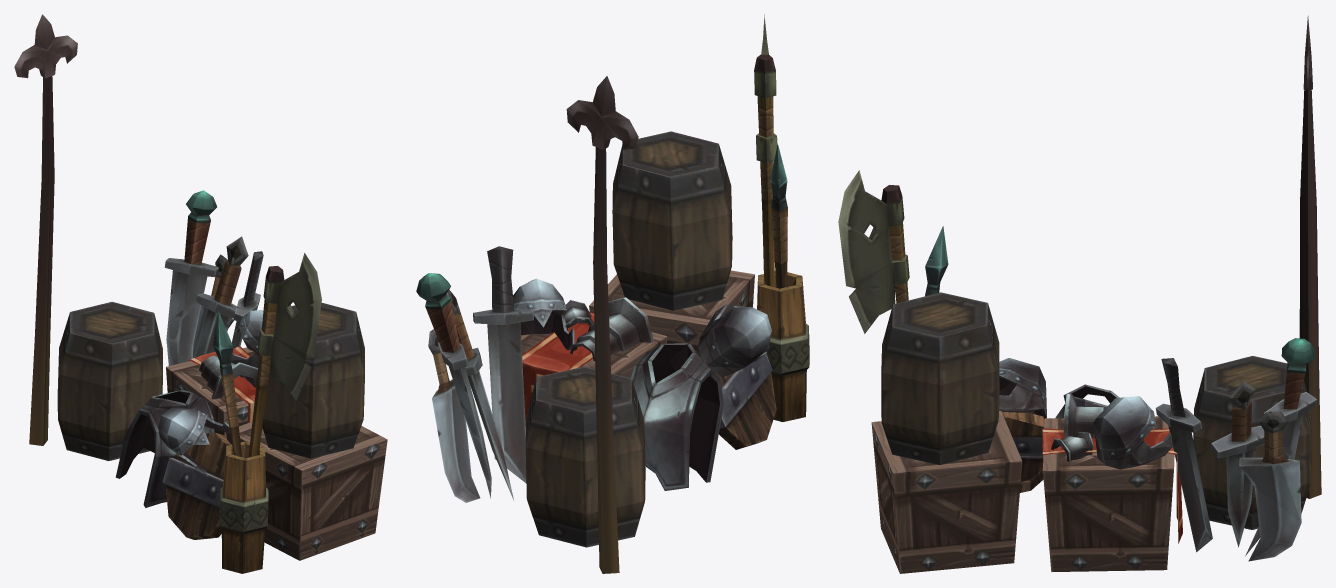
Rendered from zawu.FBX.
The picture shows the model from 3 angles, left to right: view 1: azimuth 30°, elevation 25°; view 2: azimuth 150°, elevation 25°; view 3: azimuth 270°, elevation 25°; orthographic projection. The views are drawn at different scales.
Parts seen in each view (by area): view 1: 对象003; view 2: 对象003; view 3: 对象003.
Boxes of the visible parts, box(x1,y1,x2,y2) form: 对象003: box(14, 14, 387, 573); 对象003: box(416, 14, 809, 573); 对象003: box(838, 15, 1321, 573).
Size of the model in its own units: 1.11 by 2.28 by 2.07.
